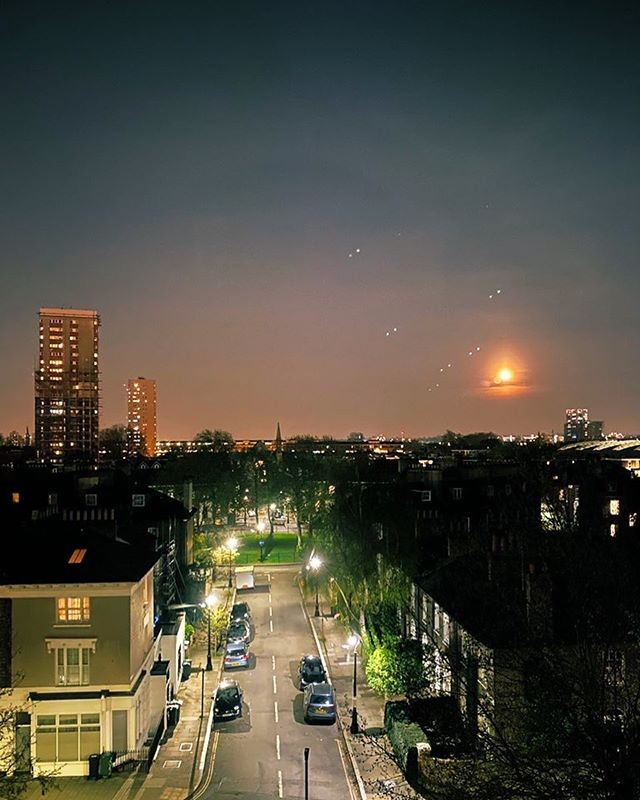building: (364, 548, 640, 800), (1, 522, 161, 800), (30, 306, 111, 467), (113, 371, 161, 454)
car: (214, 672, 246, 732), (219, 635, 254, 675), (294, 649, 329, 689), (300, 686, 335, 726)
sky: (1, 1, 633, 425)
street: (184, 564, 347, 800)
